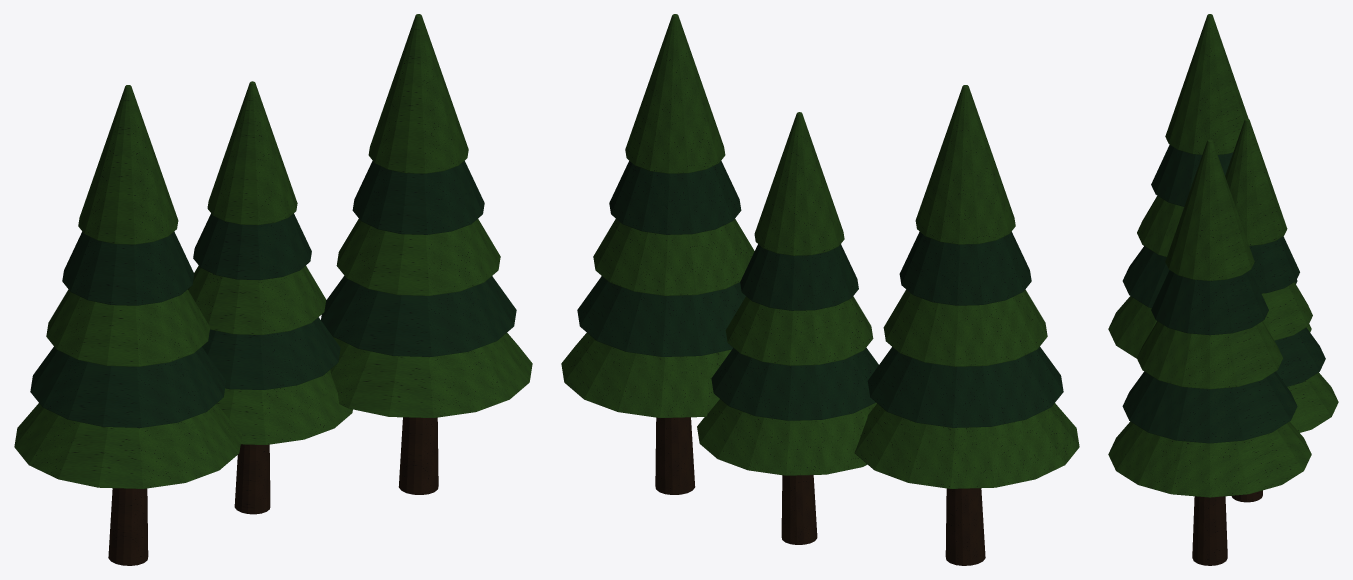
Rendered from PROP-3144CAFE9465_lod0.glb.
3 views of the same model, side by side, from view 1: azimuth 30°, elevation 25°; view 2: azimuth 150°, elevation 25°; view 3: azimuth 270°, elevation 25° (orthographic). The views are drawn at different scales.
Visible parts, largest first — view 1: layered_conifer_crown, layered_conifer_crown.001, trunk; view 2: layered_conifer_crown, layered_conifer_crown.001, trunk; view 3: layered_conifer_crown, layered_conifer_crown.001, trunk.
Boxes of the visible parts, left/top/right/bottom form: layered_conifer_crown: left=14, top=14, right=532, bottom=488; layered_conifer_crown.001: left=30, top=160, right=516, bottom=427; trunk: left=108, top=417, right=438, bottom=565; layered_conifer_crown: left=561, top=14, right=1079, bottom=488; layered_conifer_crown.001: left=577, top=160, right=1063, bottom=427; trunk: left=655, top=417, right=985, bottom=565; layered_conifer_crown: left=1108, top=14, right=1338, bottom=497; layered_conifer_crown.001: left=1122, top=145, right=1325, bottom=443; trunk: left=1192, top=490, right=1262, bottom=565.
Bounding box in the file's own units: 6.74 × 6.22 × 3.1.
3 materials, 3 textured.
